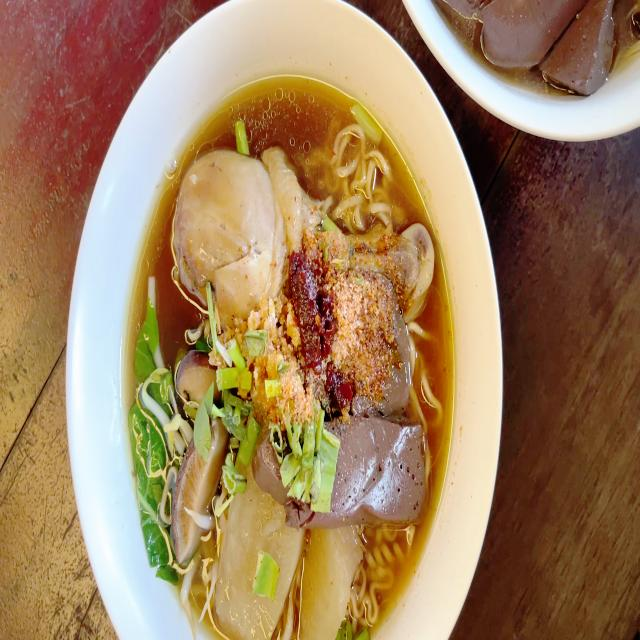boiled_chicken_blood_jelly: (445, 0, 640, 86), (329, 418, 428, 518)
chicken_drumstick: (171, 153, 438, 324)
daikon_radish: (215, 509, 367, 640)
noodle: (135, 97, 432, 632)
